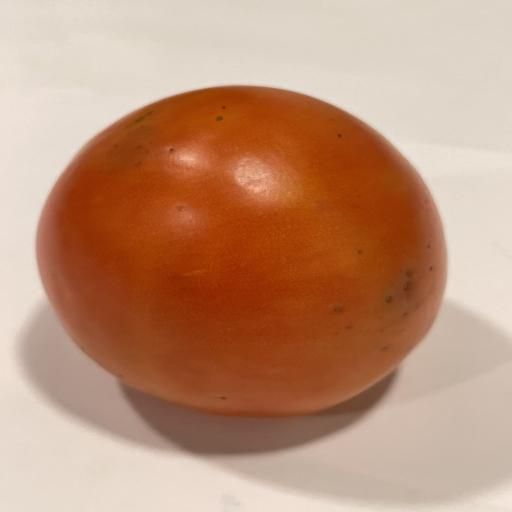unripe: (37, 86, 446, 416)
